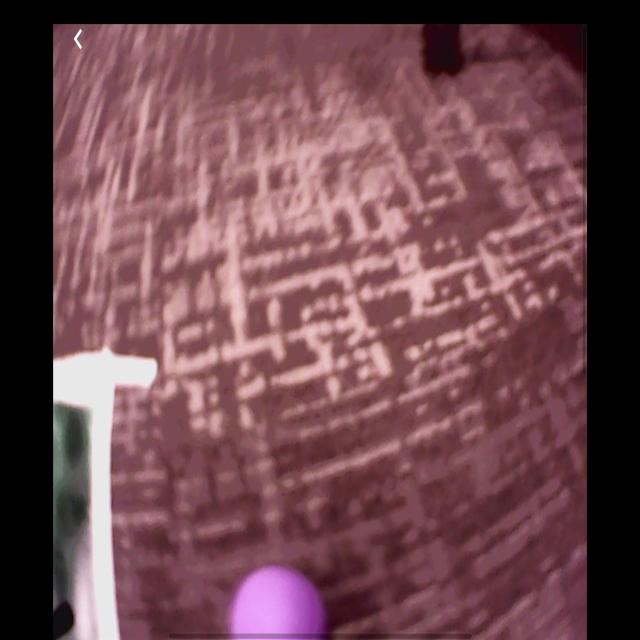ball: (226, 564, 329, 639)
